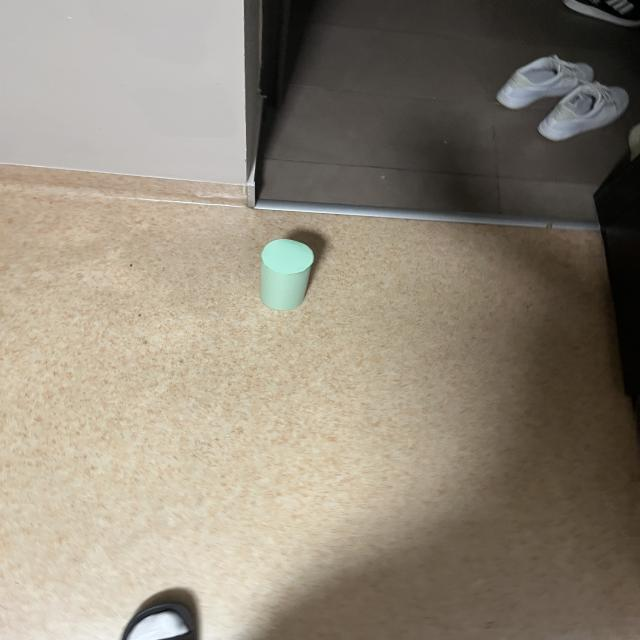meta: (261, 239, 314, 310)
